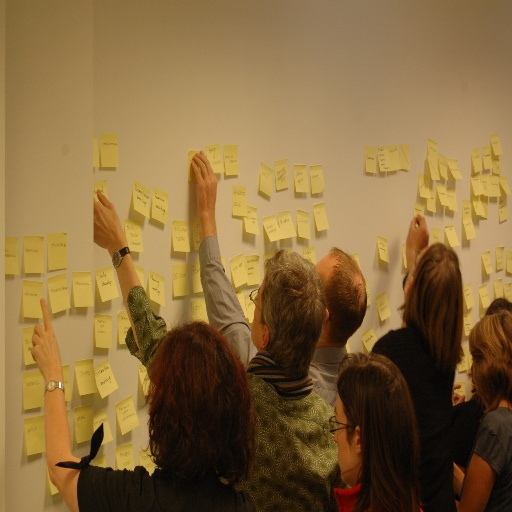hand: (29, 296, 61, 383), (93, 188, 126, 251), (189, 148, 217, 217), (405, 213, 429, 270), (449, 383, 466, 408)
